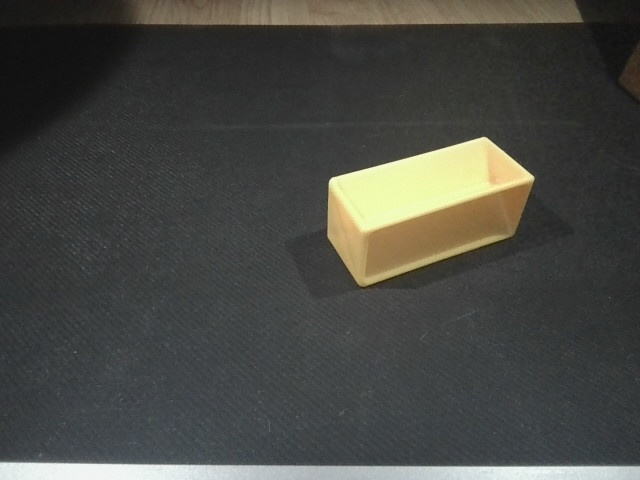YellowSample: (319, 131, 539, 308)
